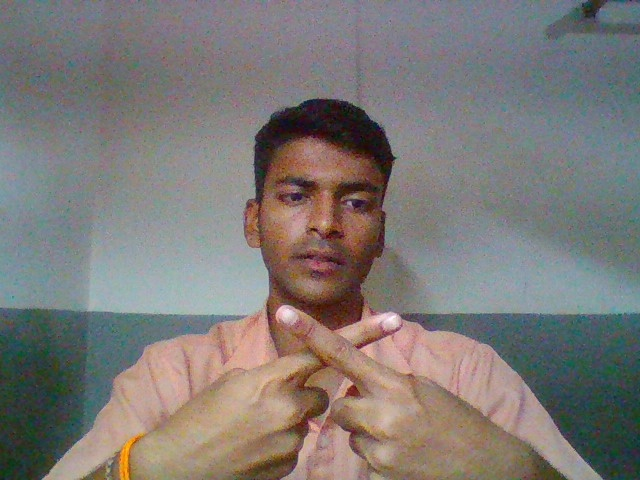X: (153, 295, 529, 480)
